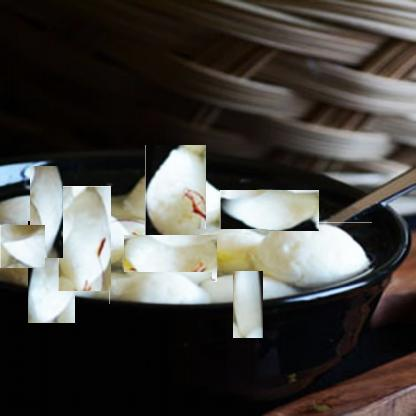rasgulla: (254, 222, 372, 287), (135, 155, 217, 238), (45, 199, 124, 278), (13, 235, 88, 310), (123, 234, 217, 282), (216, 256, 281, 321), (220, 189, 319, 231), (14, 180, 78, 244), (109, 272, 212, 304), (195, 229, 267, 271), (0, 224, 45, 268)
